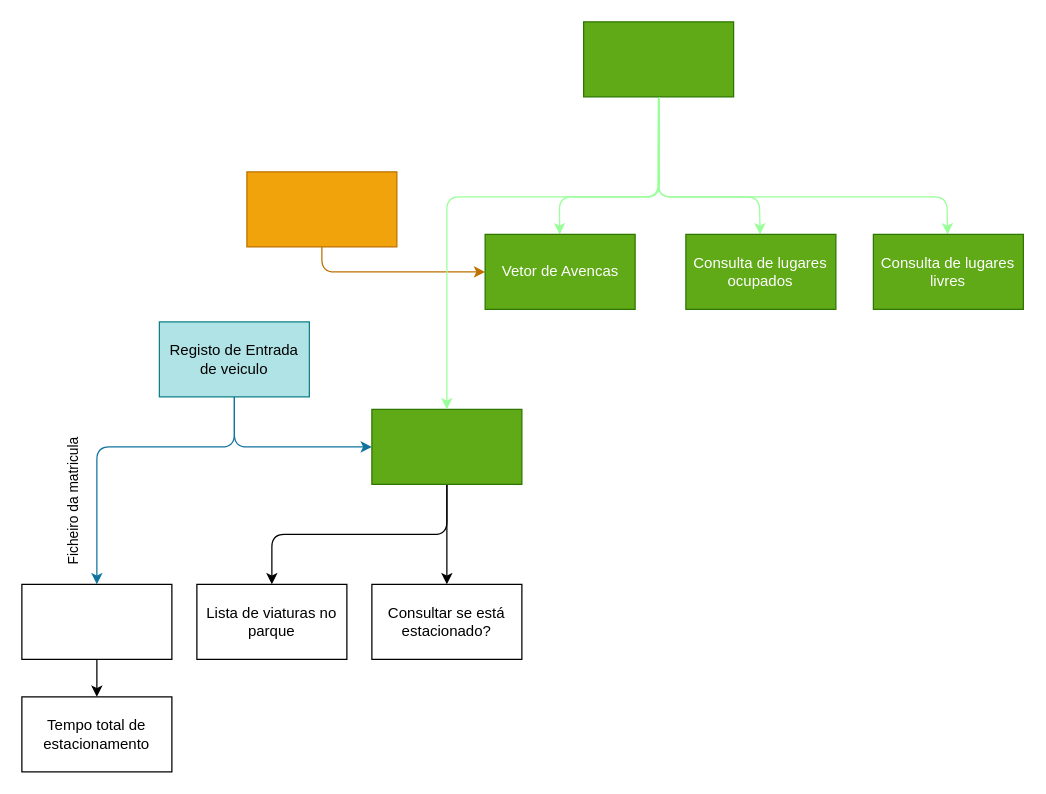
Image size: 1046x794. Some labels were removed from this diagram. The shapes that lost their labels are listed below. From the top down, each one's centre as x and y in pixels, then its label:
point 658,59: Parque
point 321,209: Registo de Nova avenca
point 446,446: Vetor de Veiculos no parque
point 96,621: Historico do parque
